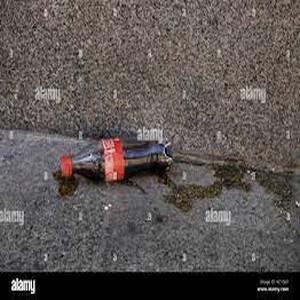Plastic: (59, 135, 175, 184)
